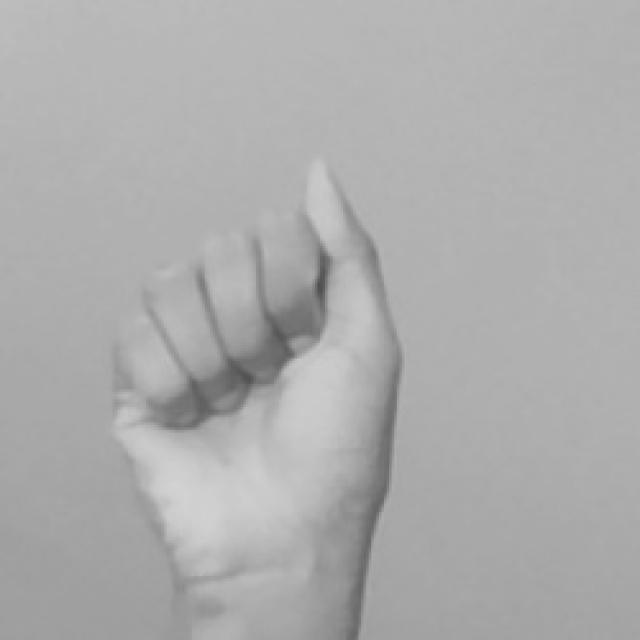A: (98, 149, 417, 636)
